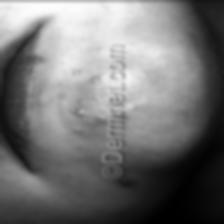Toxin: (114, 174, 136, 188), (89, 75, 104, 84), (70, 67, 84, 75)
